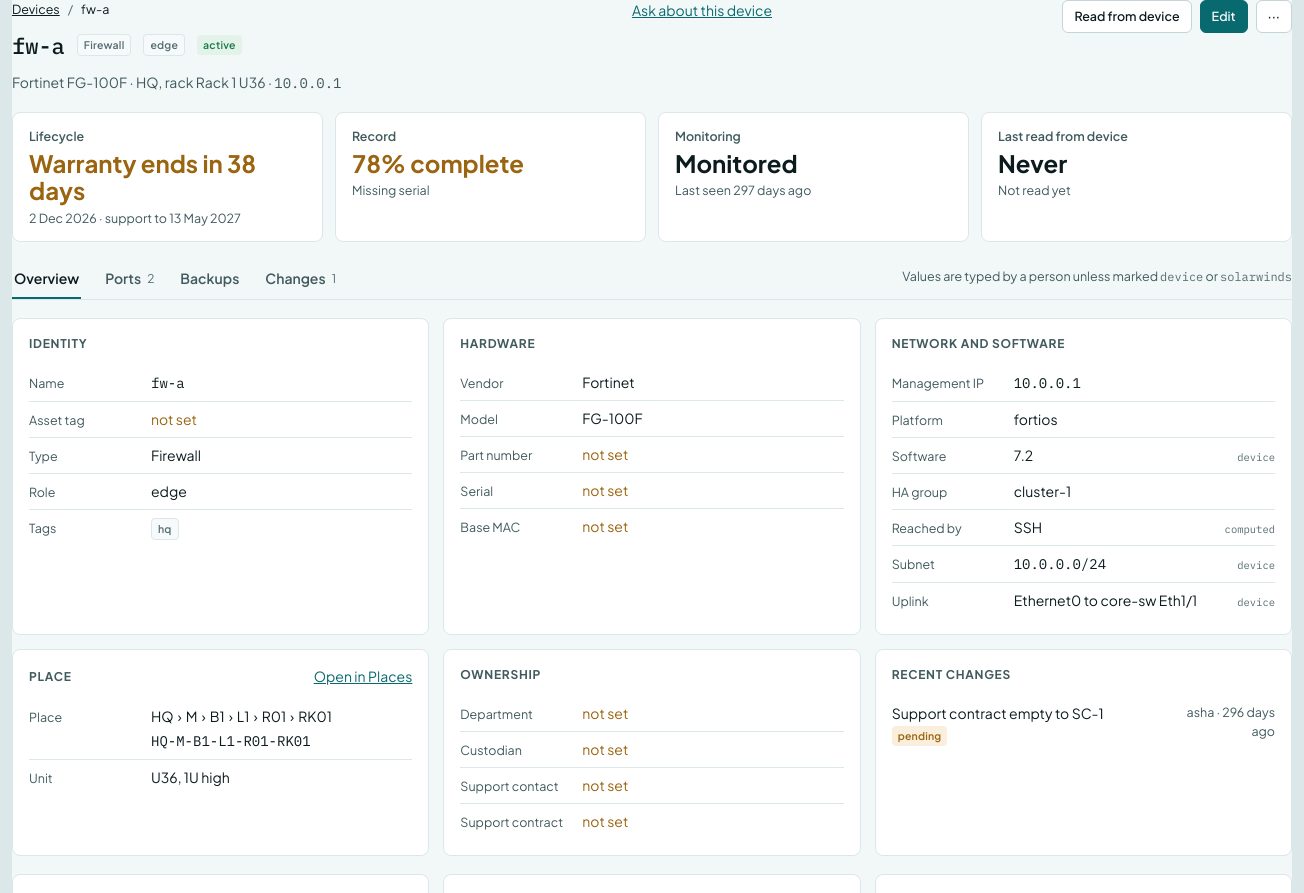
Test case: DeviceRecord › shows a per-device error and a request-level refusal
Step 1. Click the button "Read from device" → click(1127, 16), box [1062,0,1192,33]
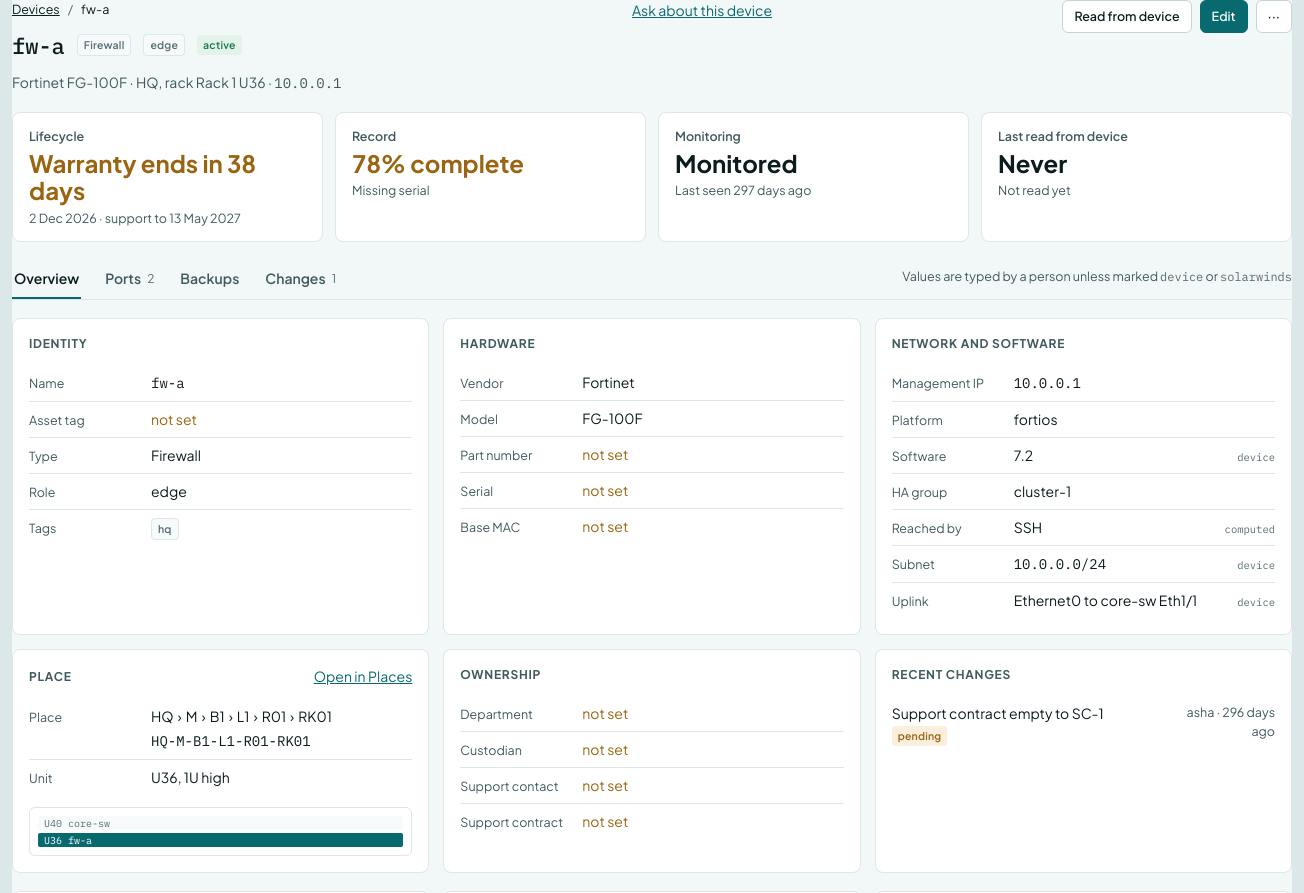
Step 2. Click the button "Read from device" → click(1127, 16), box [1062,0,1192,33]
(page scrolled)
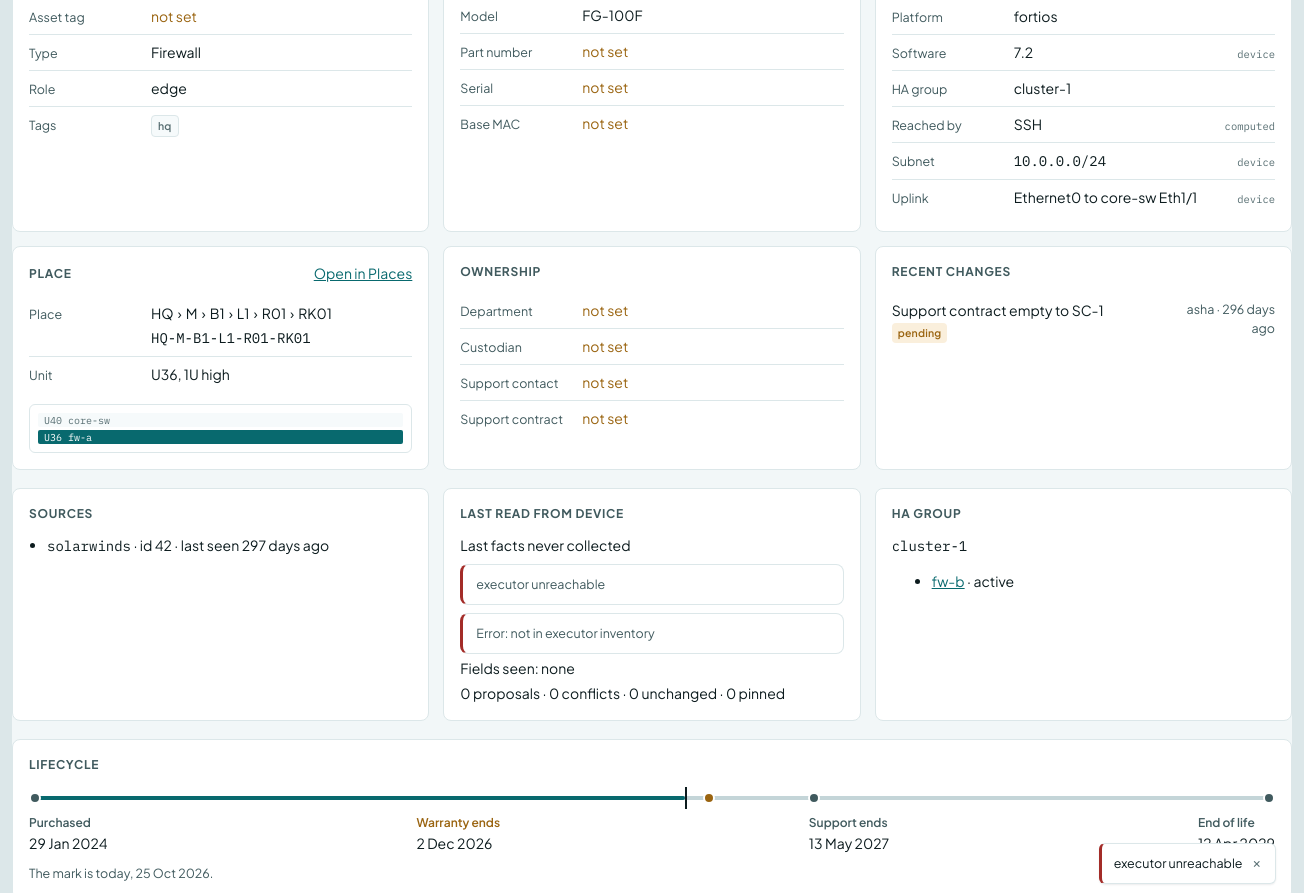
Check: the text with test id "facts-error" reads "executor unreachable", box [476,576,605,592]
